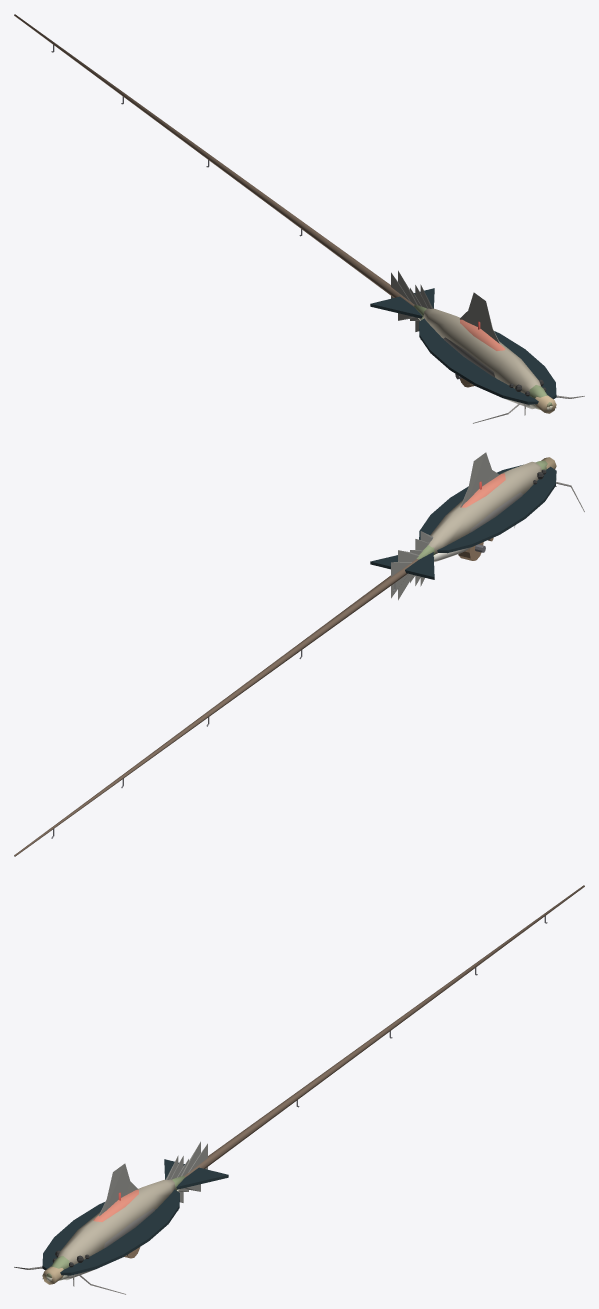
File: fishing.glb
3 views of the same model, one above another, from view 1: azimuth 30°, elevation 25°; view 2: azimuth 150°, elevation 25°; view 3: azimuth 330°, elevation 25° (orthographic).
Parts seen in each view (by area): view 1: fish_shadow_shadow, fish_cod_cod, rod_timber, fish_snapper_fin; view 2: fish_shadow_shadow, fish_cod_cod, rod_timber, fish_snapper_fin; view 3: fish_shadow_shadow, fish_cod_cod, rod_timber, fish_snapper_fin.
Boxes of the visible parts, bbox=[...] form: fish_shadow_shadow: bbox=[370, 288, 556, 404]; fish_cod_cod: bbox=[423, 308, 540, 393]; rod_timber: bbox=[14, 14, 414, 306]; fish_snapper_fin: bbox=[420, 284, 492, 339]; fish_shadow_shadow: bbox=[370, 464, 556, 579]; fish_cod_cod: bbox=[428, 461, 541, 553]; rod_timber: bbox=[14, 559, 418, 856]; fish_snapper_fin: bbox=[420, 452, 491, 586]; fish_shadow_shadow: bbox=[42, 1159, 228, 1275]; fish_cod_cod: bbox=[58, 1179, 175, 1264]; rod_timber: bbox=[184, 885, 584, 1177]; fish_snapper_fin: bbox=[104, 1155, 178, 1211].
Bounding box in the file's own units: 0.4175 × 0.3392 × 3.45.
